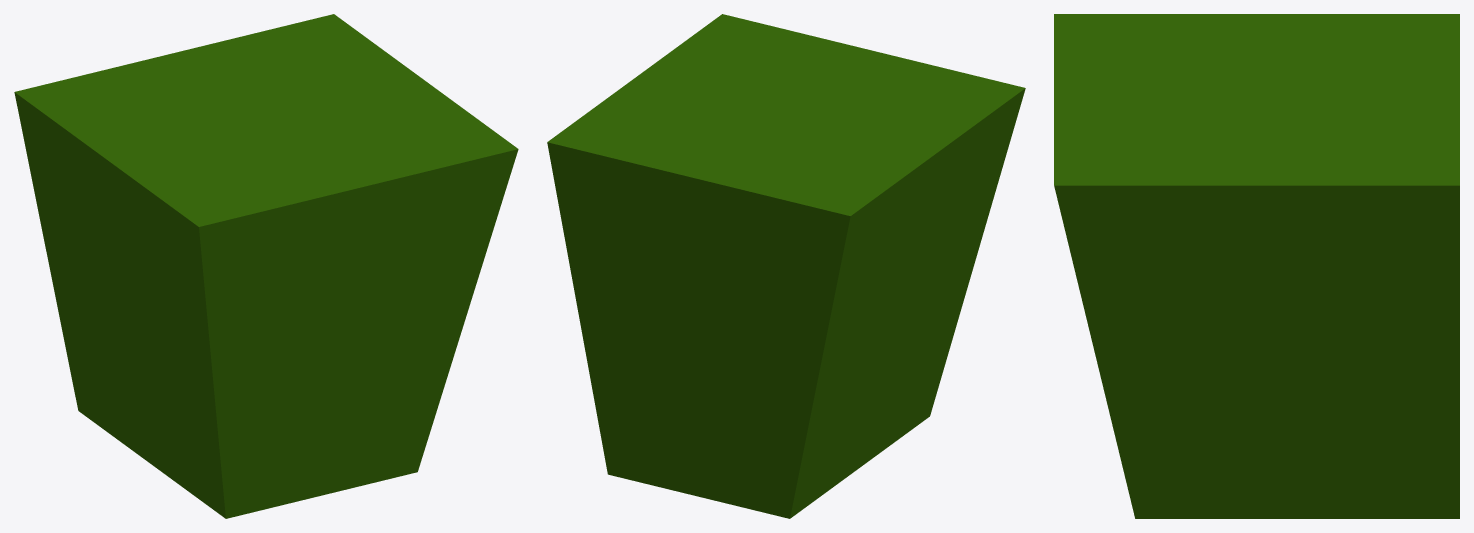
Rendered from Grass_01_I_L.fbx.
3 renders of one model, left to right at view 1: azimuth 30°, elevation 25°; view 2: azimuth 150°, elevation 25°; view 3: azimuth 270°, elevation 25°, orthographic. The views are drawn at different scales.
Parts seen in each view (by area): view 1: 3, 1, 4, 2; view 2: 4, 2, 3, 1; view 3: 2, 1, 3, 4.
Part boxes in pixels (x1,y1,x2,y2): 3: (107,120,358,518); 1: (267,81,518,495); 4: (14,53,265,477); 2: (174,14,425,120); 4: (699,115,937,518); 2: (547,78,785,496); 3: (787,51,1025,454); 1: (635,14,873,114); 2: (1257,99,1459,518); 1: (1054,99,1256,518); 3: (1054,14,1256,99); 4: (1257,14,1459,99).
Size of the model in its own units: 200 by 200 by 200.
